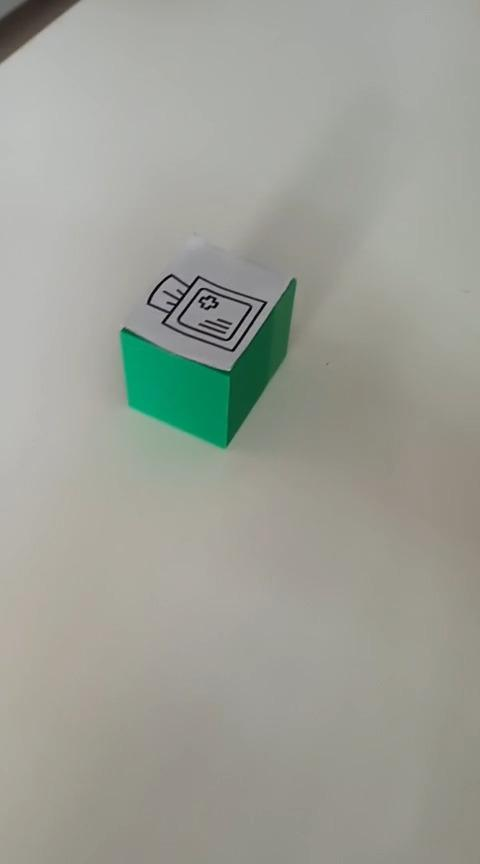Gauze: (118, 231, 297, 449)
